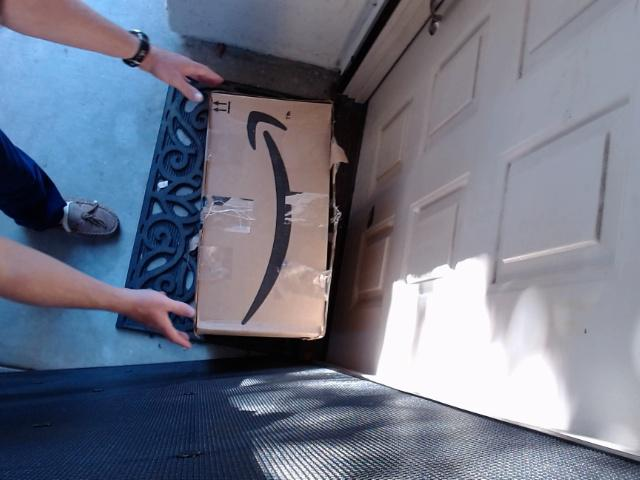box: (165, 79, 362, 358)
